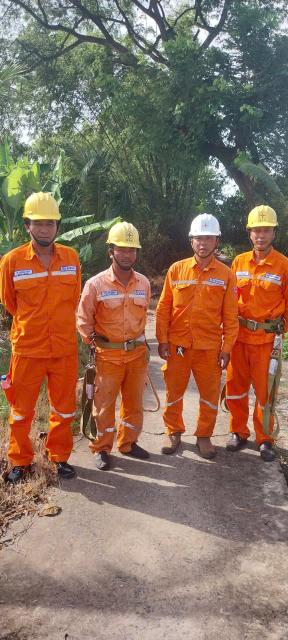harness: (85, 329, 149, 357), (230, 307, 286, 337)
helmet: (20, 186, 71, 227), (99, 218, 146, 250), (240, 200, 285, 229), (180, 215, 226, 239)
shoes: (248, 434, 283, 469), (89, 433, 113, 473), (47, 452, 78, 482), (4, 458, 40, 483), (158, 425, 185, 458), (195, 428, 218, 464), (229, 426, 252, 454), (124, 431, 144, 462)
